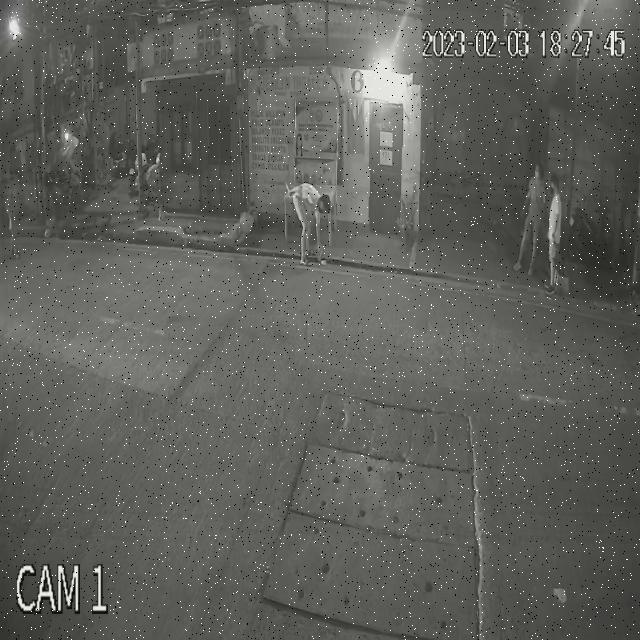garbage_dumping: (316, 249, 328, 268)
